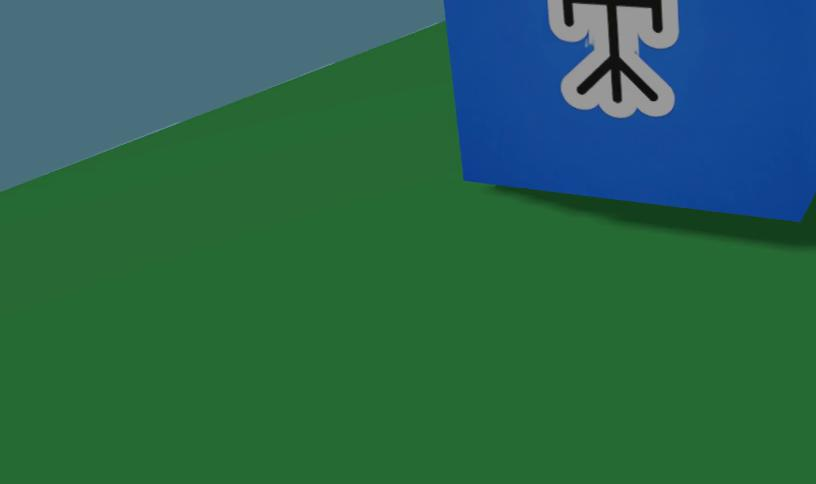KFS_REAL: (442, 0, 816, 219), (548, 0, 678, 117)
